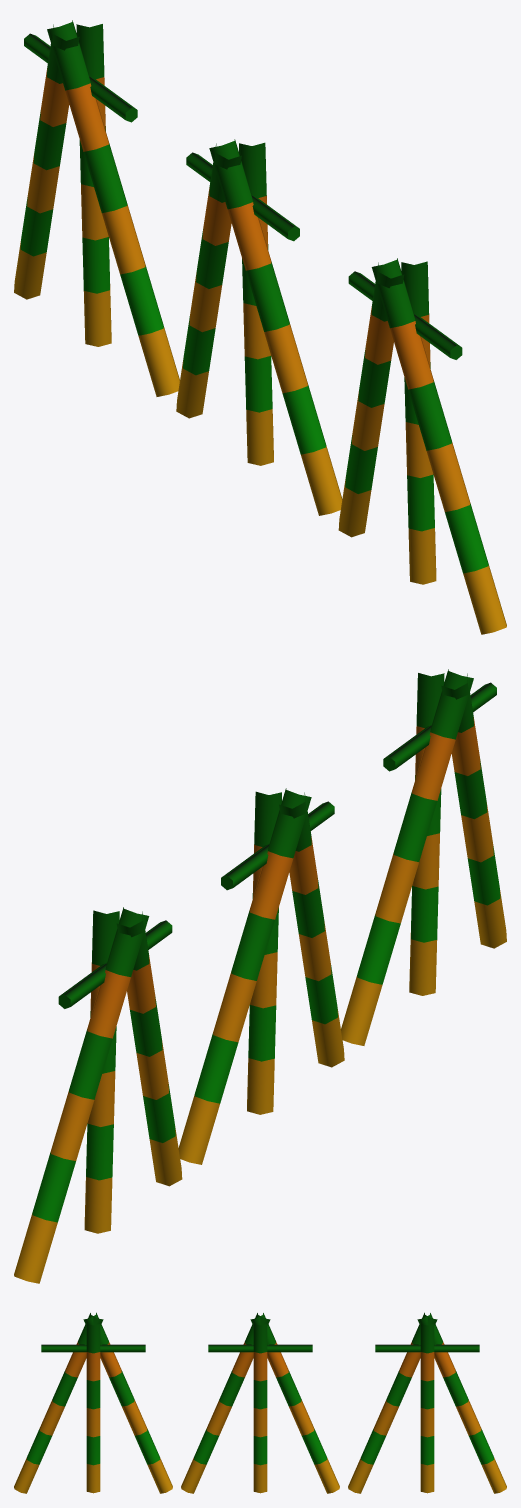
File: smallbarricade.glb
3 views of the same model, one above another, from view 1: azimuth 30°, elevation 25°; view 2: azimuth 150°, elevation 25°; view 3: azimuth 270°, elevation 25° (orthographic). The views are drawn at different scales.
Parts seen in each view (by area): view 1: lod0; view 2: lod0; view 3: lod0.
Part boxes in pixels (x1=…): lod0: x1=14, y1=20, x2=506, y2=634; lod0: x1=14, y1=669, x2=506, y2=1283; lod0: x1=14, y1=1312, x2=506, y2=1493.
Size of what is drawn, in the model's own units: 0.3496 by 1.81 by 4.72.
